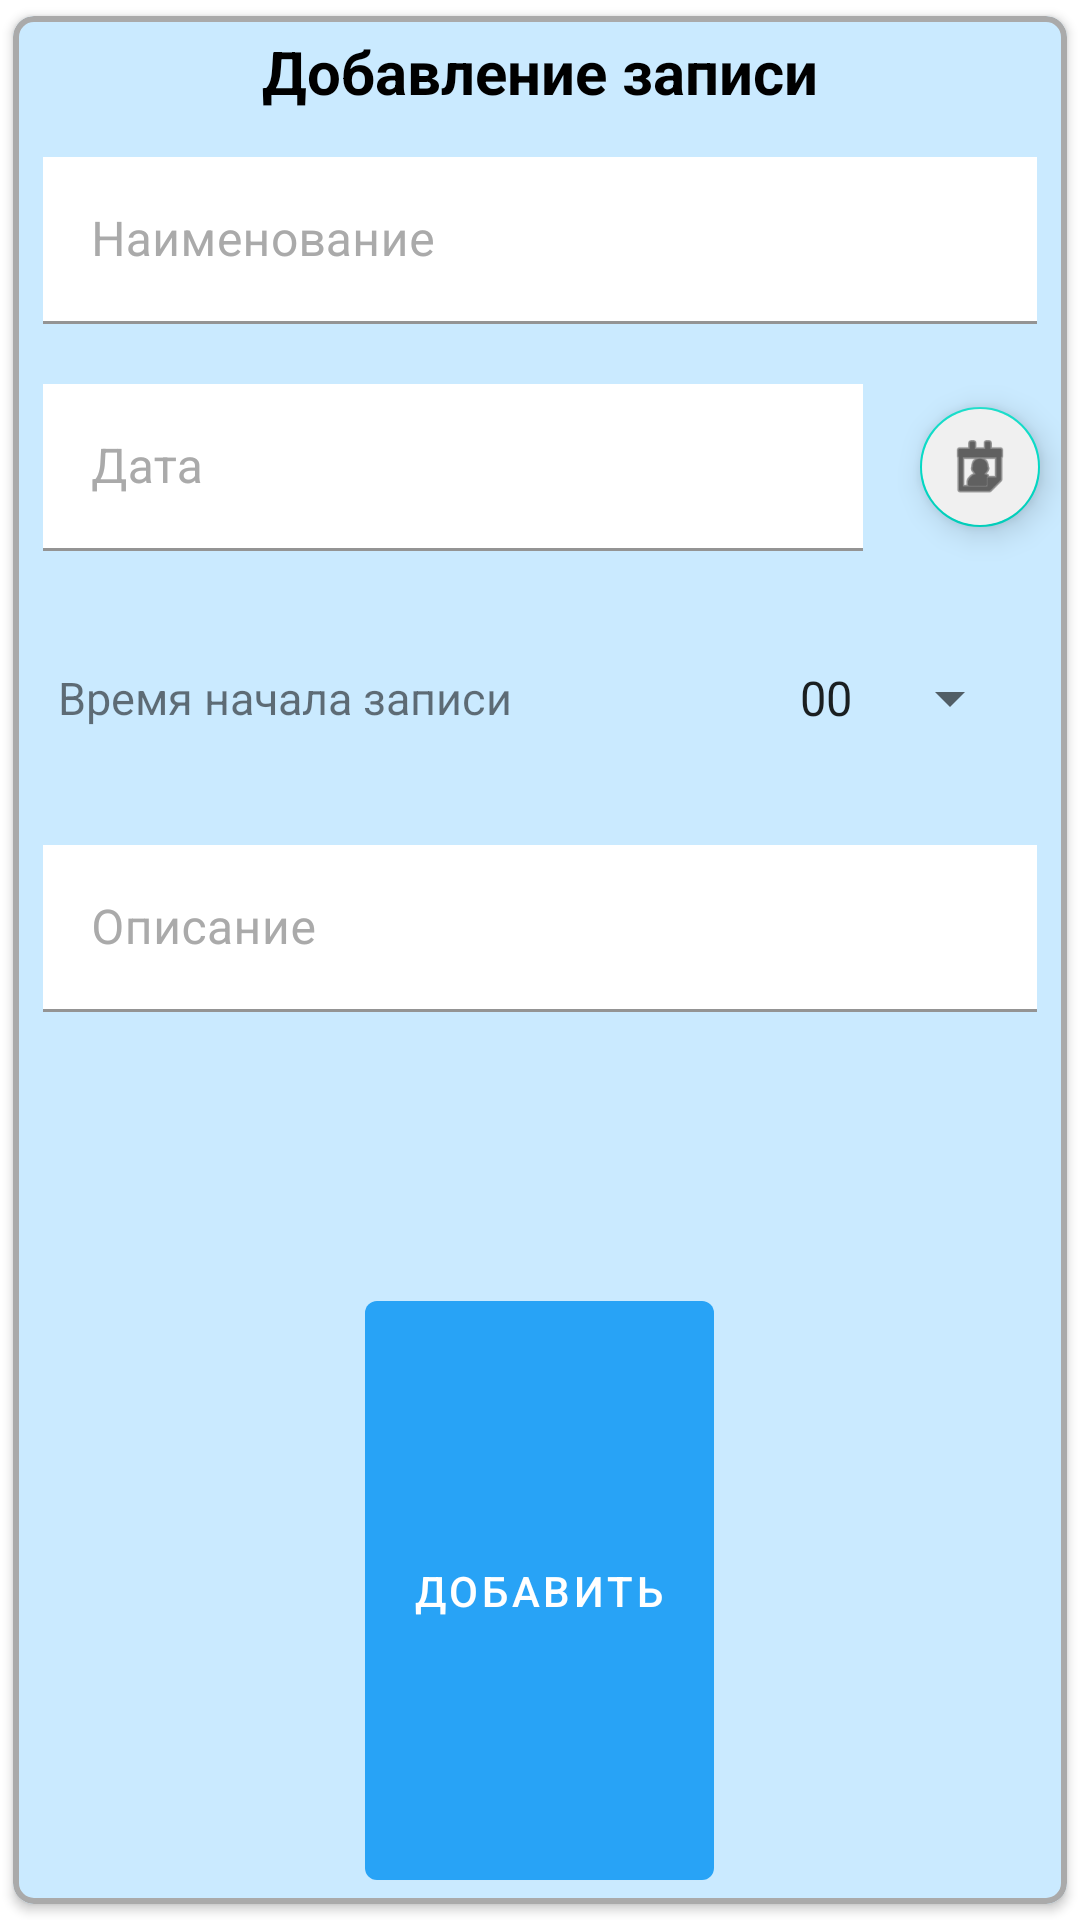

Icon click points for this 1080px x 1920px phone screenshot, format (x,y):
calendar: (981,468)
